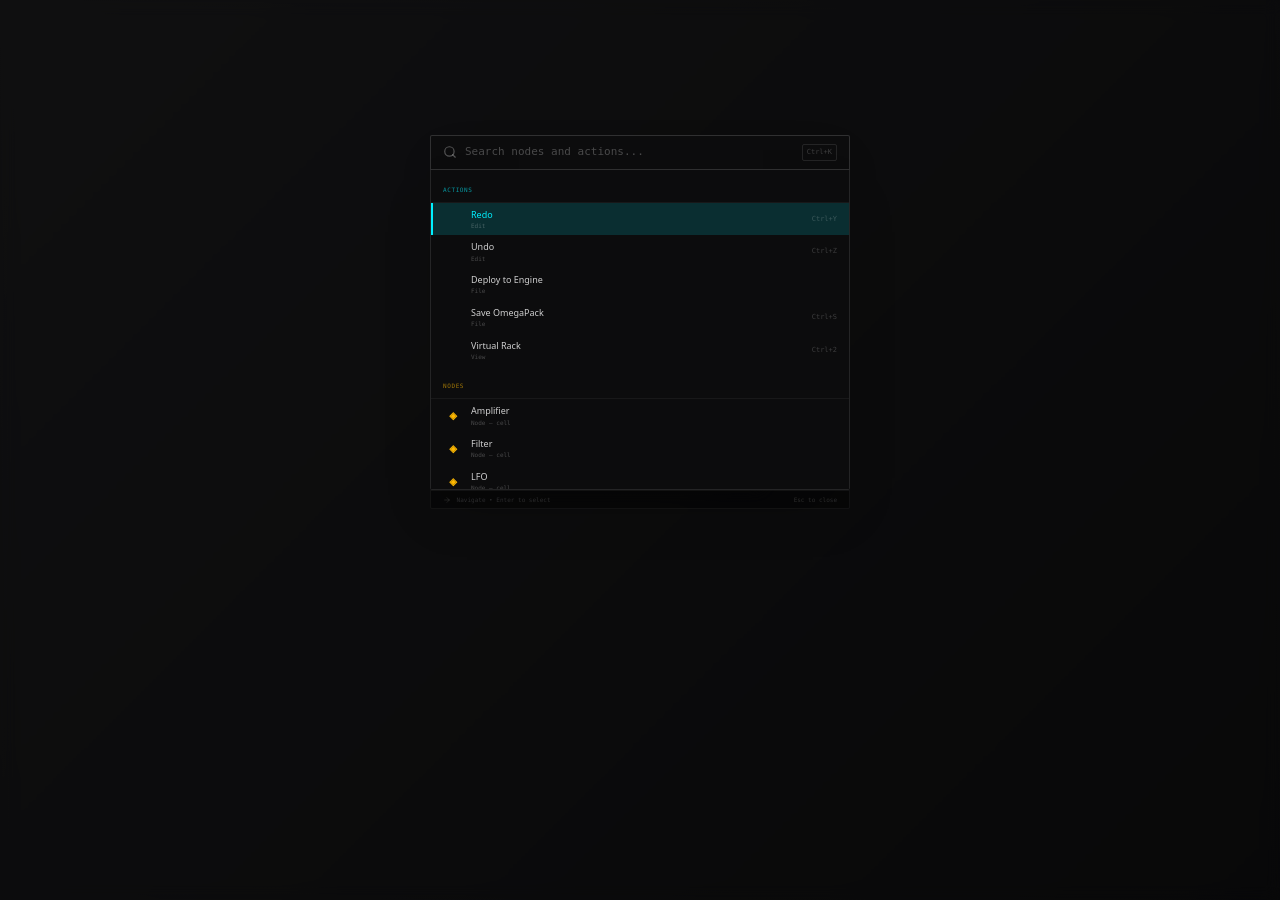
Test: CommandPalette — search / filtering › should filter actions by label (exact prefix match)
Type "Undo" into the field with placeholder "Search nodes and actions...".
click(629, 152); type("Undo")  # box x1=465 y1=144 x2=794 y2=160
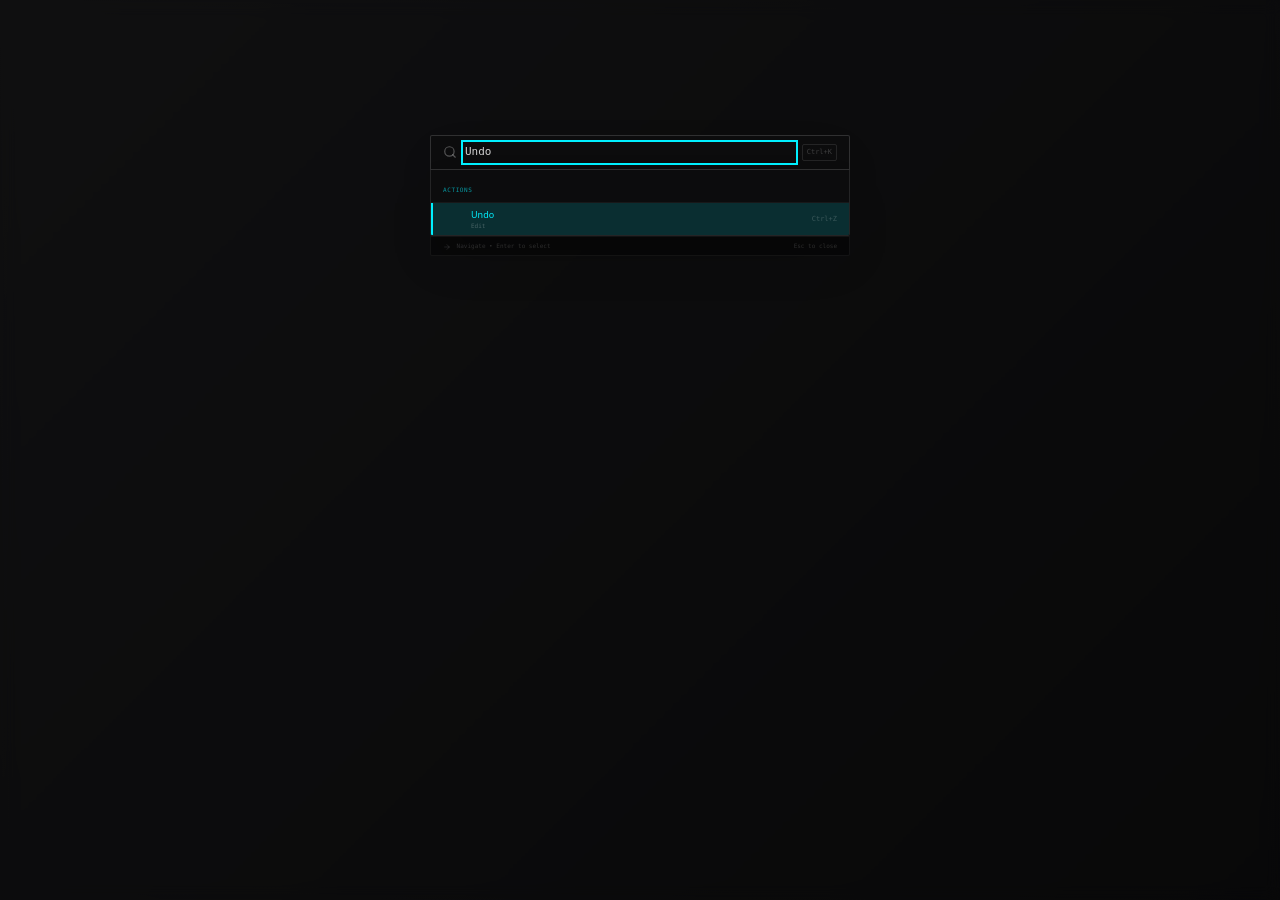
Check: the text "Oscillator" is not shown
Check: the text "Undo" is shown, box x1=471 y1=208 x2=494 y2=220
Check: the button "Redo" is gone
